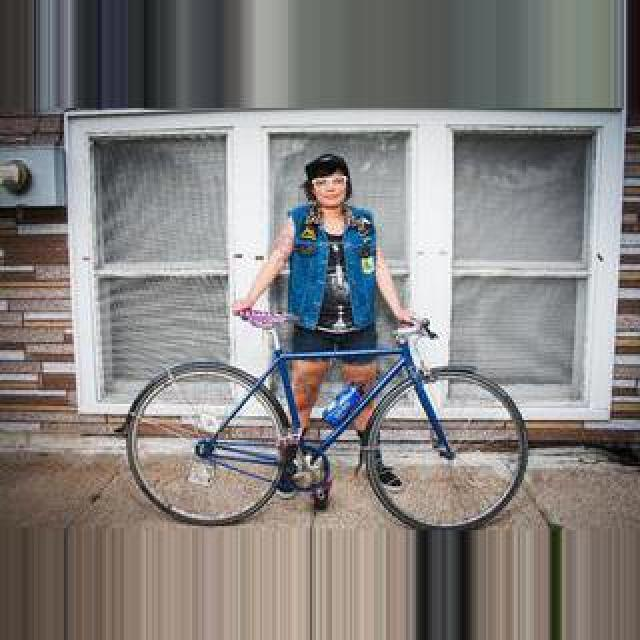MC-Bike: (232, 158, 430, 500)
Person: (126, 309, 540, 527)
